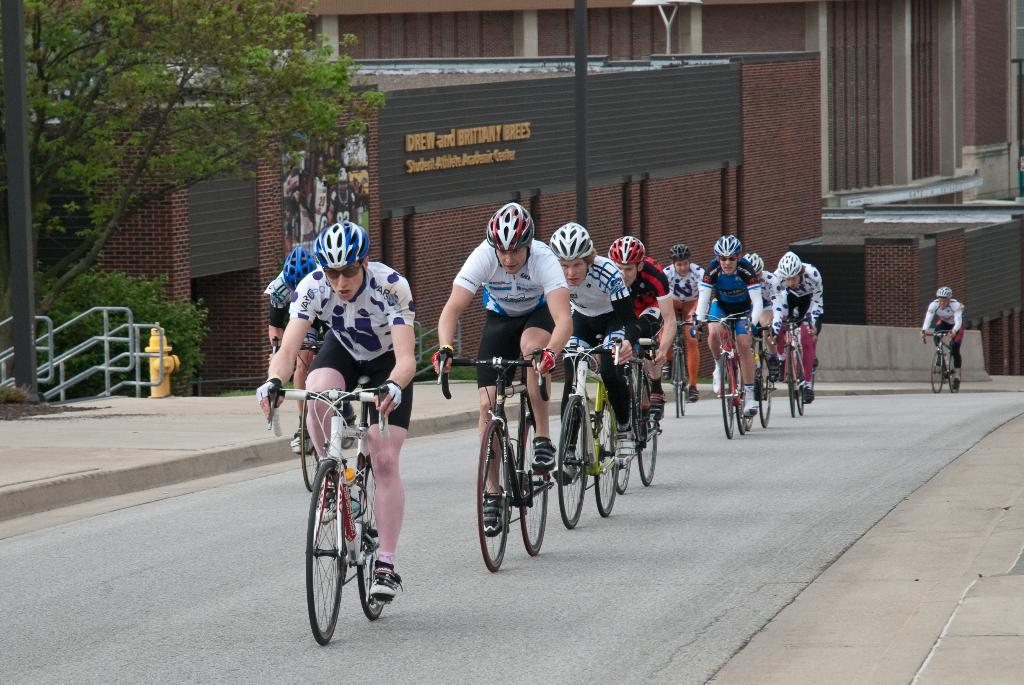Bike_toward: (250, 376, 400, 643), (428, 344, 556, 570), (689, 307, 766, 443), (919, 327, 970, 397)
